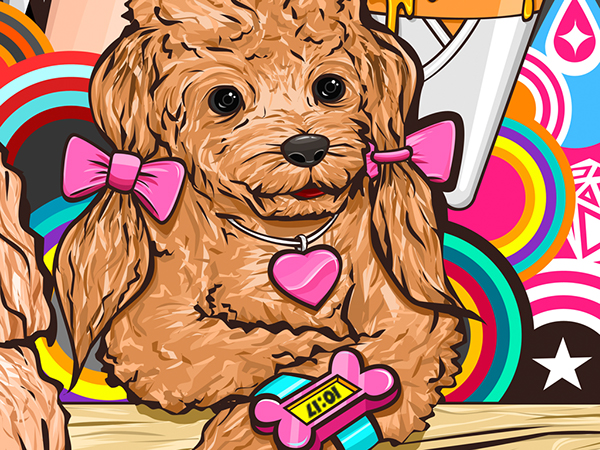dog: (5, 1, 440, 450)
